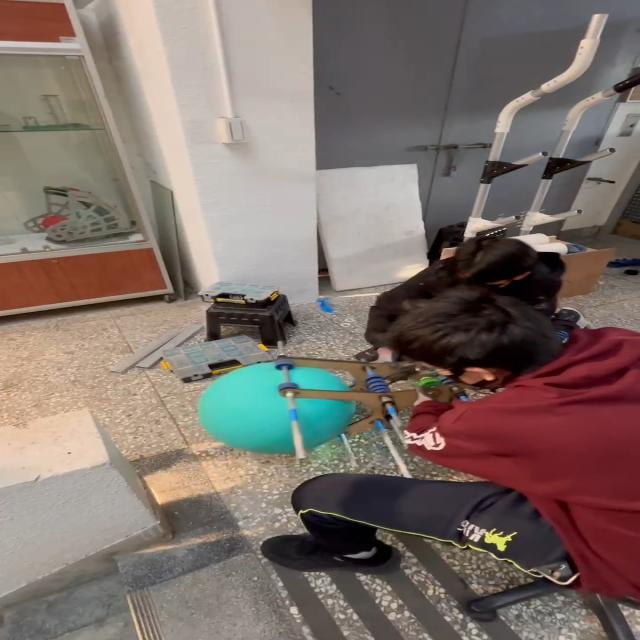ALGAE: (195, 360, 357, 456)
